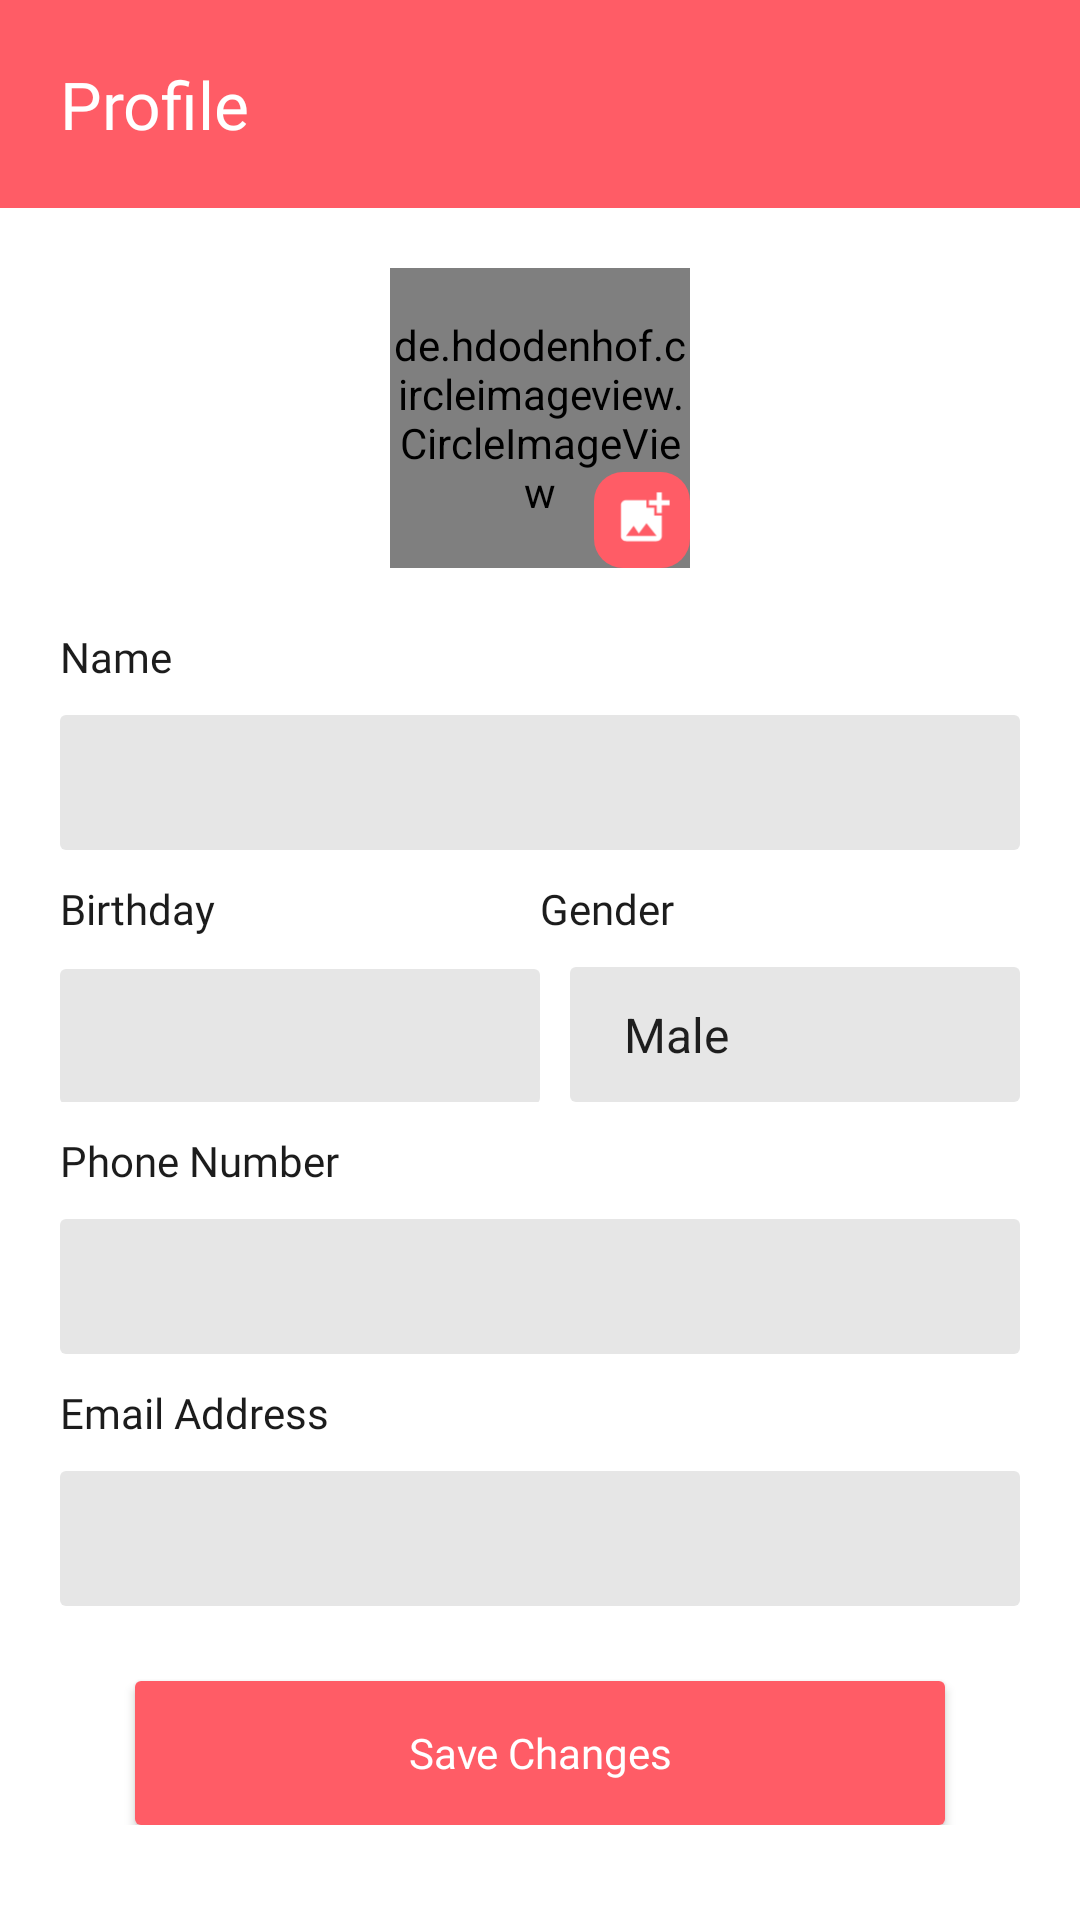

Named icons in this screenshot (1080x1920) and their centers, [x,y]:
photo: [642,520]
